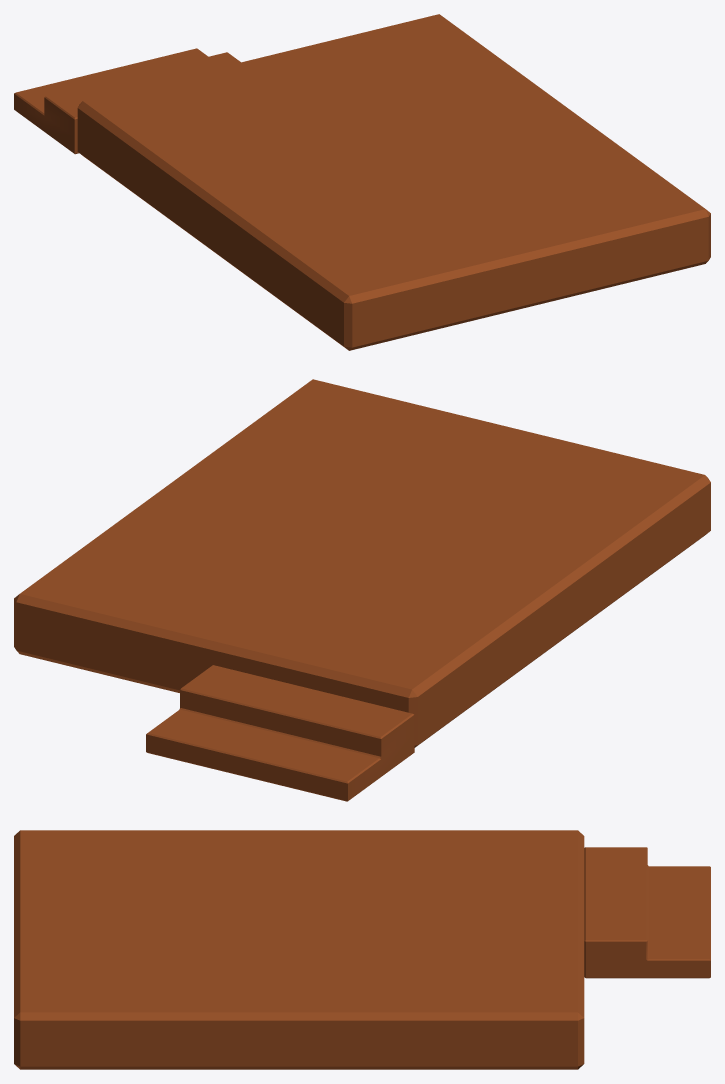
The model's file is house_01.FBX.
The picture shows the model from 3 angles, top to bottom: view 1: azimuth 30°, elevation 25°; view 2: azimuth 150°, elevation 25°; view 3: azimuth 270°, elevation 25°; orthographic projection. The views are drawn at different scales.
Visible parts, largest first — view 1: Box002; view 2: Box002; view 3: Box002.
Boxes of the visible parts, left/top/right/bottom form: Box002: left=14, top=14, right=710, bottom=350; Box002: left=14, top=379, right=710, bottom=801; Box002: left=14, top=830, right=710, bottom=1069.
Size of the model in its own units: 73.56 by 10.51 by 116.
1 material, 1 textured.
